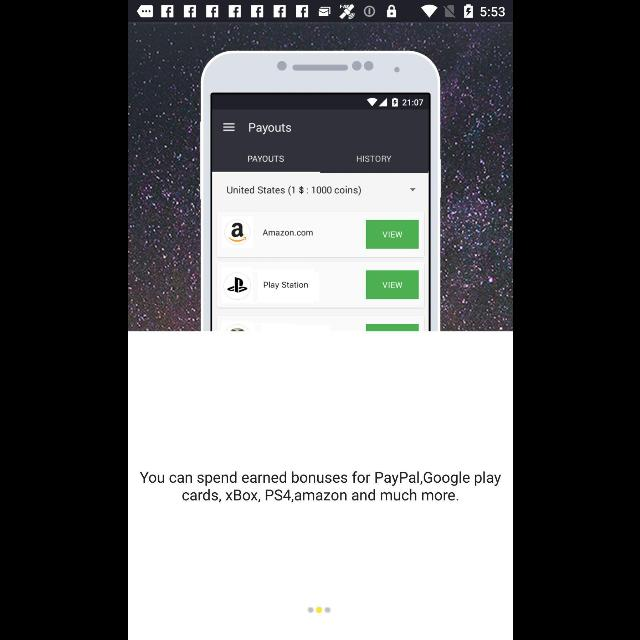image: (128, 23, 512, 331)
pageindicator: (306, 606, 330, 614)
text: (140, 472, 500, 502)
uppertaskbar: (128, 1, 512, 23)
